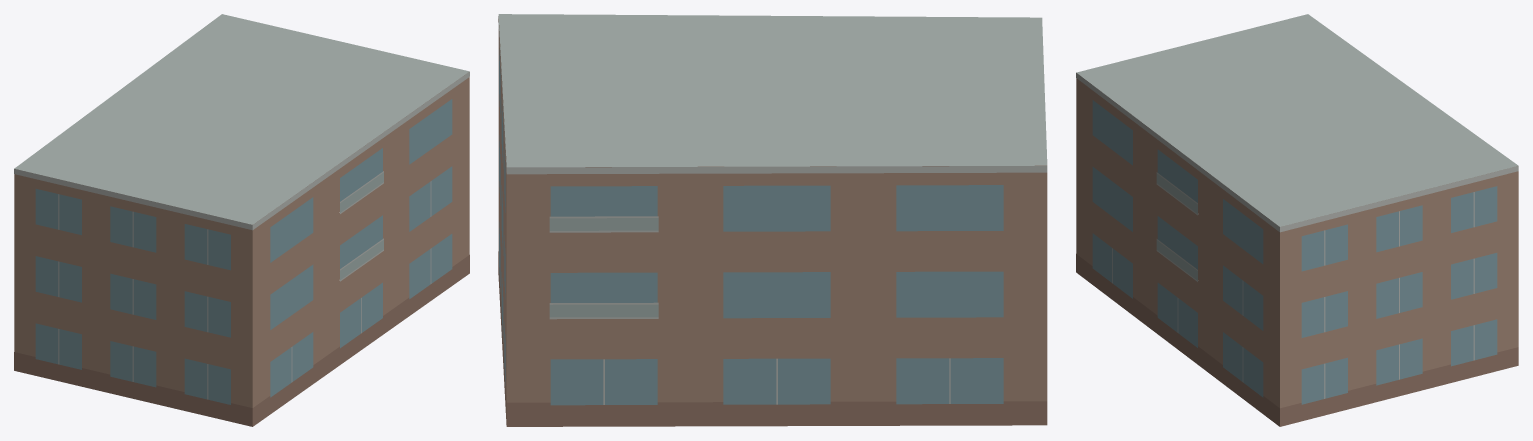
Rendered from survey-upis-32843832.glb.
3 renders of one model, left to right at view 1: azimuth 30°, elevation 25°; view 2: azimuth 150°, elevation 25°; view 3: azimuth 270°, elevation 25°, orthographic. The views are drawn at different scales.
Visible parts, largest first — view 1: survey-upis-32843832.tmp; view 2: survey-upis-32843832.tmp; view 3: survey-upis-32843832.tmp.
Boxes of the visible parts, <box> form: survey-upis-32843832.tmp: <box>14,14,469,426</box>; survey-upis-32843832.tmp: <box>498,14,1047,426</box>; survey-upis-32843832.tmp: <box>1076,14,1518,426</box>.
Size of the model in its own units: 20.93 by 9.15 by 18.37.
